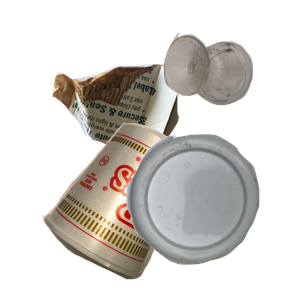cardboard: (50, 62, 228, 226)
glass: (161, 30, 300, 128)
plastic: (124, 132, 300, 300)
trash: (40, 121, 221, 300)
